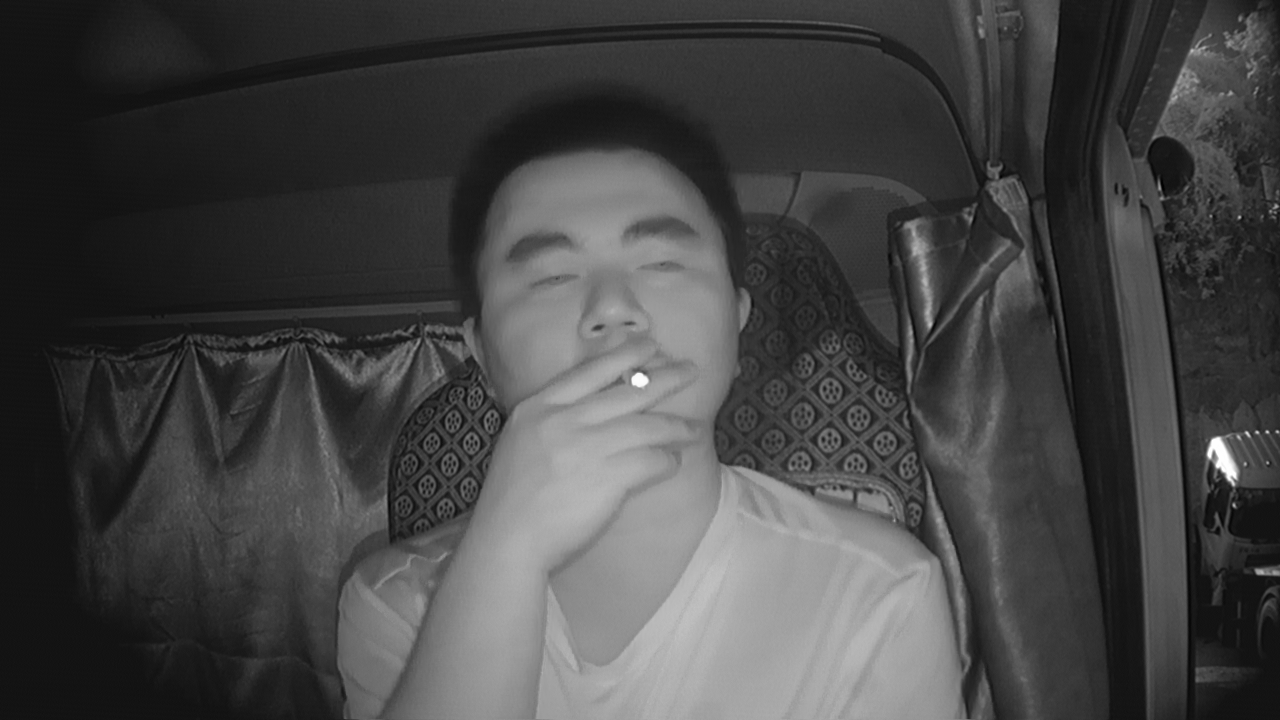hand: (542, 328, 705, 506)
